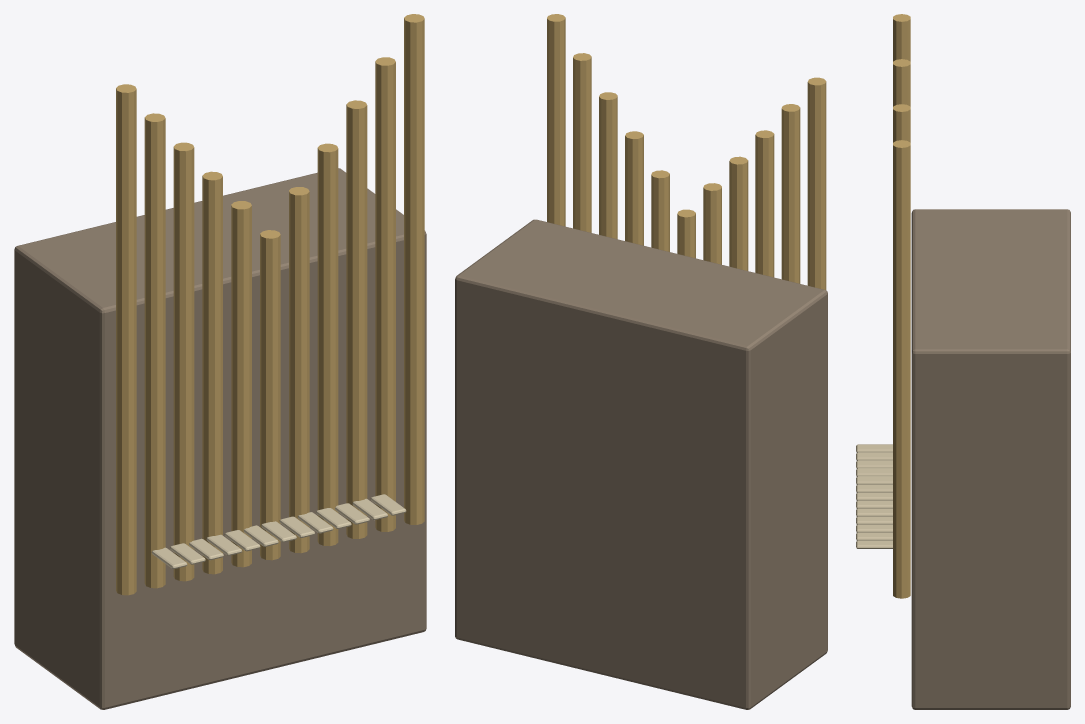
The model's file is a4_detail.glb.
3 views of the same model, side by side, from view 1: azimuth 30°, elevation 25°; view 2: azimuth 150°, elevation 25°; view 3: azimuth 270°, elevation 25° (orthographic). The views are drawn at different scales.
Parts seen in each view (by area): view 1: Body.044; view 2: Body.044; view 3: Body.044.
Part boxes in pixels (box(x1,y1,x2,y2)): Body.044: box(14, 14, 426, 709); Body.044: box(455, 14, 827, 709); Body.044: box(856, 14, 1070, 709).
Bounding box in the file's own units: 1.7 × 3.1 × 1.08.
